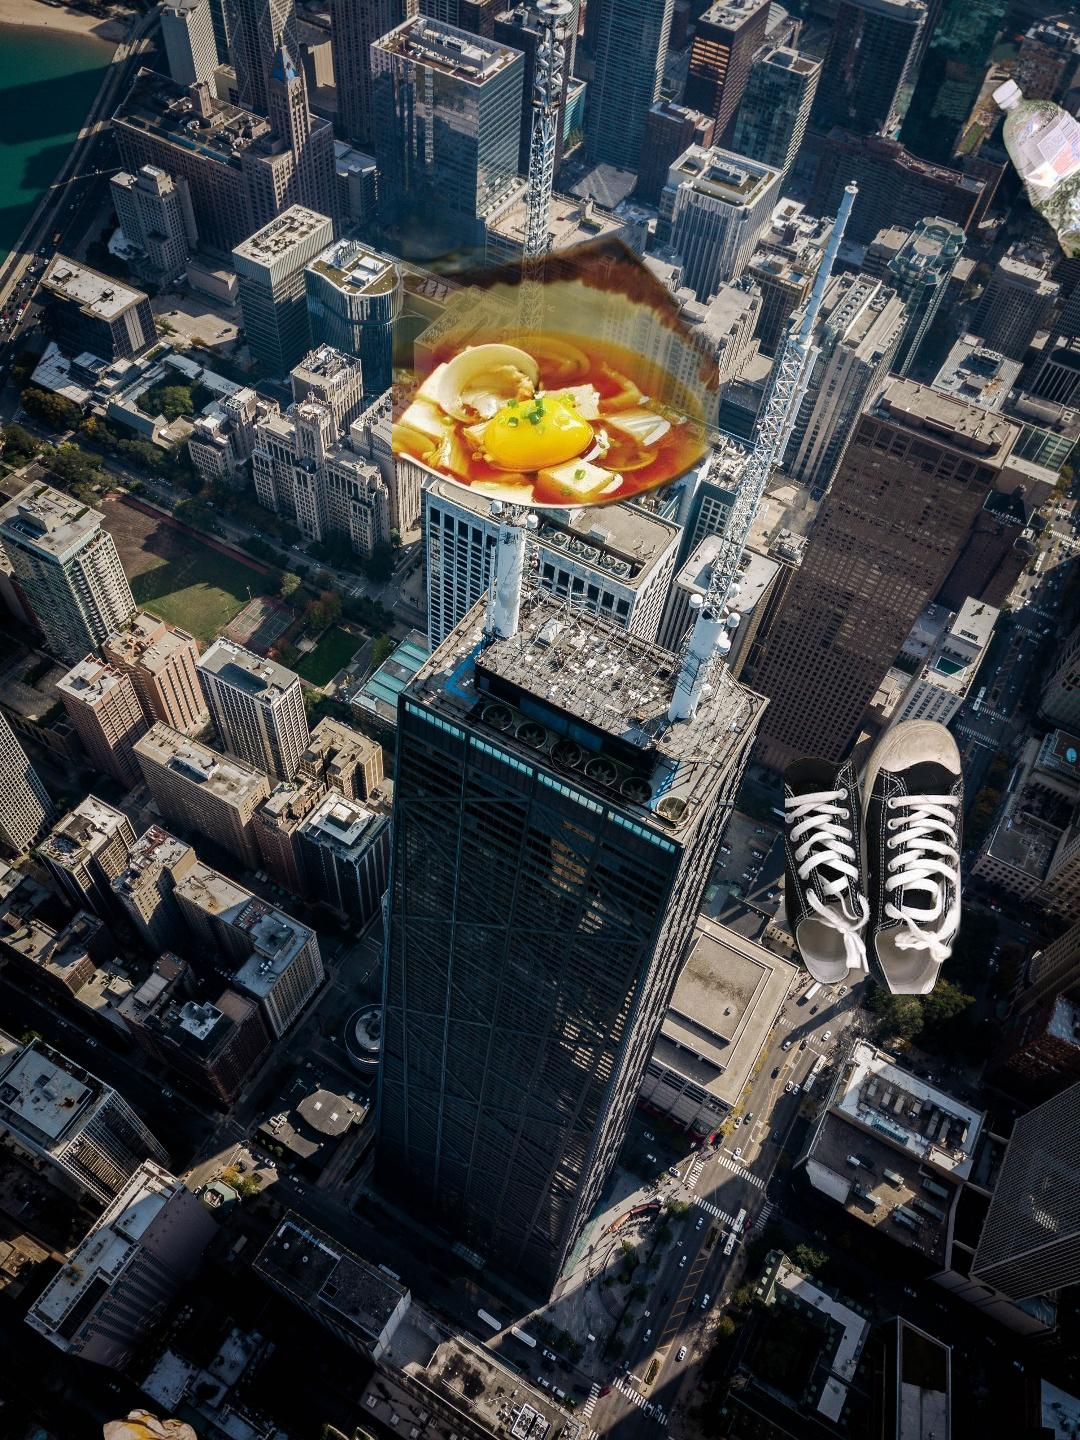biological: (392, 143, 719, 552)
paper-bag: (53, 1406, 206, 1440)
plastic-bottles: (772, 887, 1080, 1271), (988, 72, 1080, 258)
shoes: (785, 719, 968, 994)
